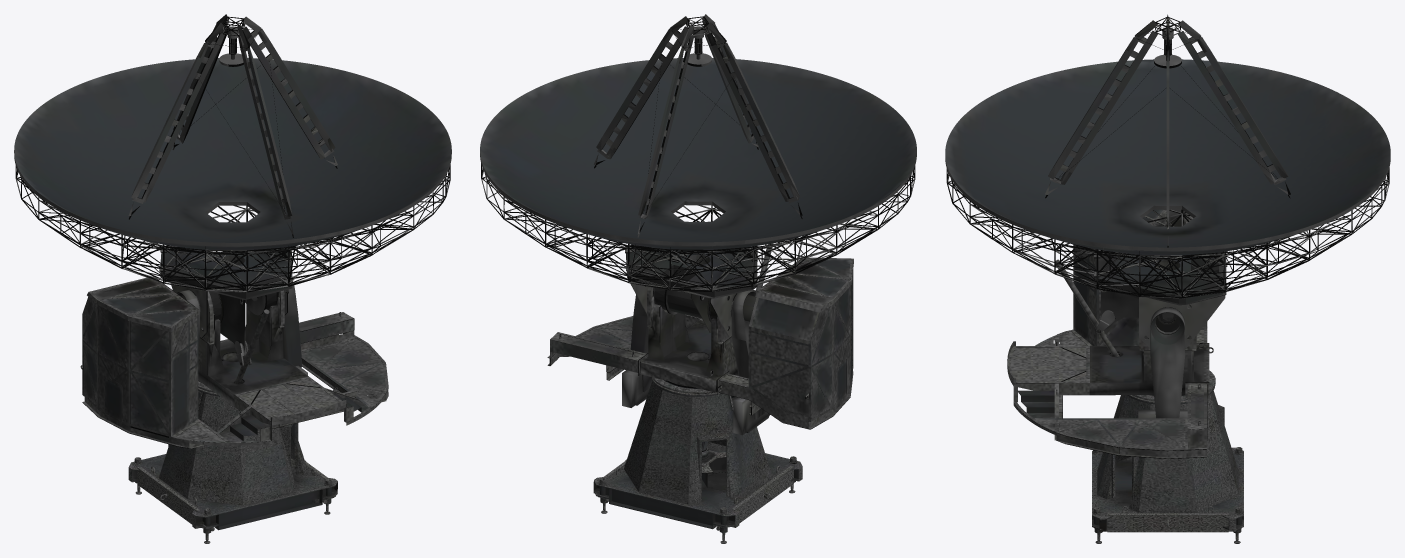
Rendered from lct.glb.
The picture shows the model from 3 angles, left to right: view 1: azimuth 30°, elevation 25°; view 2: azimuth 150°, elevation 25°; view 3: azimuth 270°, elevation 25°; orthographic projection.
Visible parts, largest first — view 1: LCT_Elevation, LCT_Azimuth, LCT_Base; view 2: LCT_Elevation, LCT_Azimuth, LCT_Base; view 3: LCT_Elevation, LCT_Azimuth, LCT_Base.
Boxes of the visible parts, box(x1,y1,x2,y2) form: LCT_Elevation: box(14, 14, 451, 375); LCT_Azimuth: box(80, 276, 388, 448); LCT_Base: box(128, 380, 337, 543); LCT_Elevation: box(480, 14, 916, 435); LCT_Azimuth: box(547, 243, 853, 457); LCT_Base: box(593, 377, 802, 543); LCT_Elevation: box(945, 14, 1390, 418); LCT_Azimuth: box(1007, 209, 1213, 458); LCT_Base: box(1092, 370, 1243, 543).
Size of the model in its own units: 10.4 by 12.7 by 10.4.
Materials: 3 (3 with a texture image).
